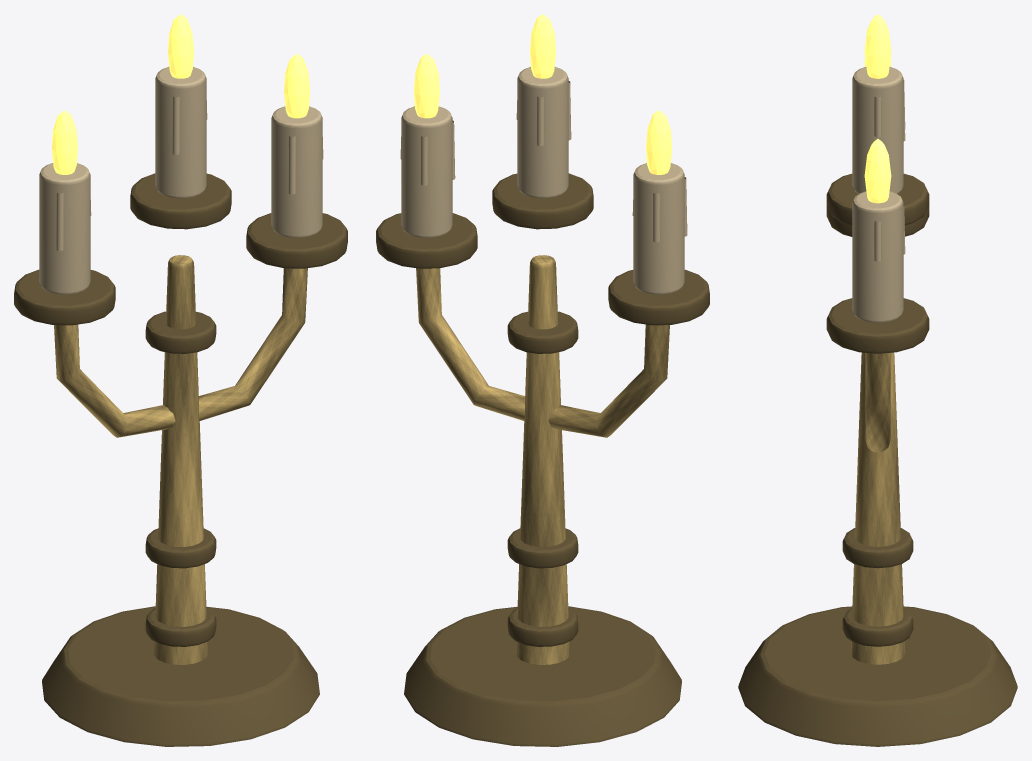
File: candelabra.glb
The picture shows the model from 3 angles, left to right: view 1: azimuth 30°, elevation 25°; view 2: azimuth 150°, elevation 25°; view 3: azimuth 270°, elevation 25°; orthographic projection.
Parts seen in each view (by area): view 1: Candelabra_foot, Candelabra_stem, Wax_candle.001, Wax_candle, Wax_candle.002, Candelabra_branch.001, Candelabra_branch, Candle_cup.002, Candle_cup, Candle_cup.001, Candelabra_collar.002, Candelabra_collar.001 (+4 smaller); view 2: Candelabra_foot, Candelabra_stem, Wax_candle.001, Wax_candle, Wax_candle.002, Candelabra_branch.001, Candelabra_branch, Candle_cup.002, Candle_cup, Candle_cup.001, Candelabra_collar.002, Candelabra_collar.001 (+4 smaller); view 3: Candelabra_foot, Candelabra_stem, Wax_candle.002, Wax_candle.001, Candle_cup.002, Candelabra_branch.001, Candle_cup.001, Candelabra_collar.001, Candelabra_collar, Candle_flame.002, Candle_flame.001, Candle_cup.
Boxes of the visible parts, <box> form: Candelabra_foot: <box>42,606,319,746</box>; Candelabra_stem: <box>154,255,207,664</box>; Wax_candle.001: <box>155,67,206,198</box>; Wax_candle: <box>39,163,90,294</box>; Wax_candle.002: <box>271,106,322,237</box>; Candelabra_branch.001: <box>199,268,307,420</box>; Candelabra_branch: <box>54,324,175,437</box>; Candle_cup.002: <box>246,213,347,268</box>; Candle_cup: <box>14,269,115,325</box>; Candle_cup.001: <box>130,173,231,229</box>; Candelabra_collar.002: <box>145,311,216,353</box>; Candelabra_collar.001: <box>145,528,216,568</box>; Candelabra_foot: <box>404,606,681,746</box>; Candelabra_stem: <box>516,255,569,664</box>; Wax_candle.001: <box>517,67,568,198</box>; Wax_candle: <box>633,163,684,294</box>; Wax_candle.002: <box>401,106,452,237</box>; Candelabra_branch.001: <box>416,268,524,420</box>; Candelabra_branch: <box>548,324,669,437</box>; Candle_cup.002: <box>376,213,477,268</box>; Candle_cup: <box>608,269,709,325</box>; Candle_cup.001: <box>492,173,593,229</box>; Candelabra_collar.002: <box>507,311,578,353</box>; Candelabra_collar.001: <box>507,528,578,568</box>; Candelabra_foot: <box>738,606,1017,746</box>; Candelabra_stem: <box>850,352,905,664</box>; Wax_candle.002: <box>852,191,903,322</box>; Wax_candle.001: <box>852,67,903,193</box>; Candle_cup.002: <box>826,298,929,353</box>; Candelabra_branch.001: <box>865,352,890,452</box>; Candle_cup.001: <box>826,173,929,225</box>; Candelabra_collar.001: <box>842,528,913,568</box>; Candelabra_collar: <box>842,608,913,646</box>; Candle_flame.002: <box>864,139,891,203</box>; Candle_flame.001: <box>864,14,891,78</box>; Candle_cup: <box>826,205,929,236</box>.
Size of the model in its own units: 0.94 by 1.89 by 0.7093.
Materials: 4 (1 with a texture image).
